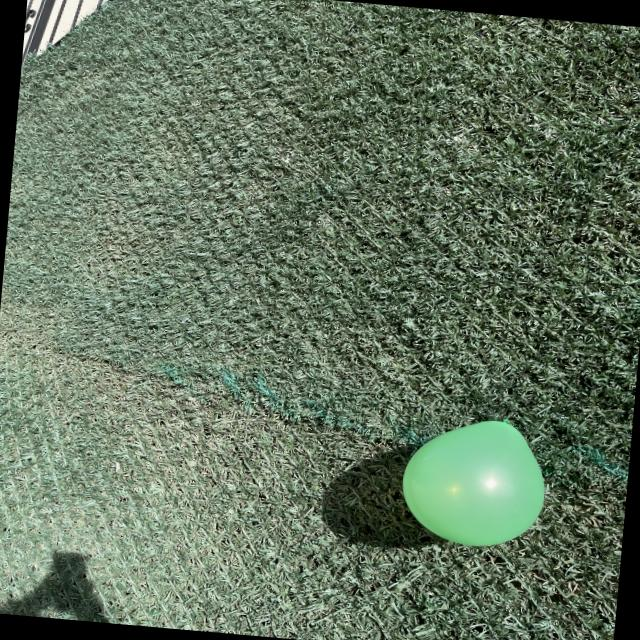balloon: (402, 421, 544, 545)
